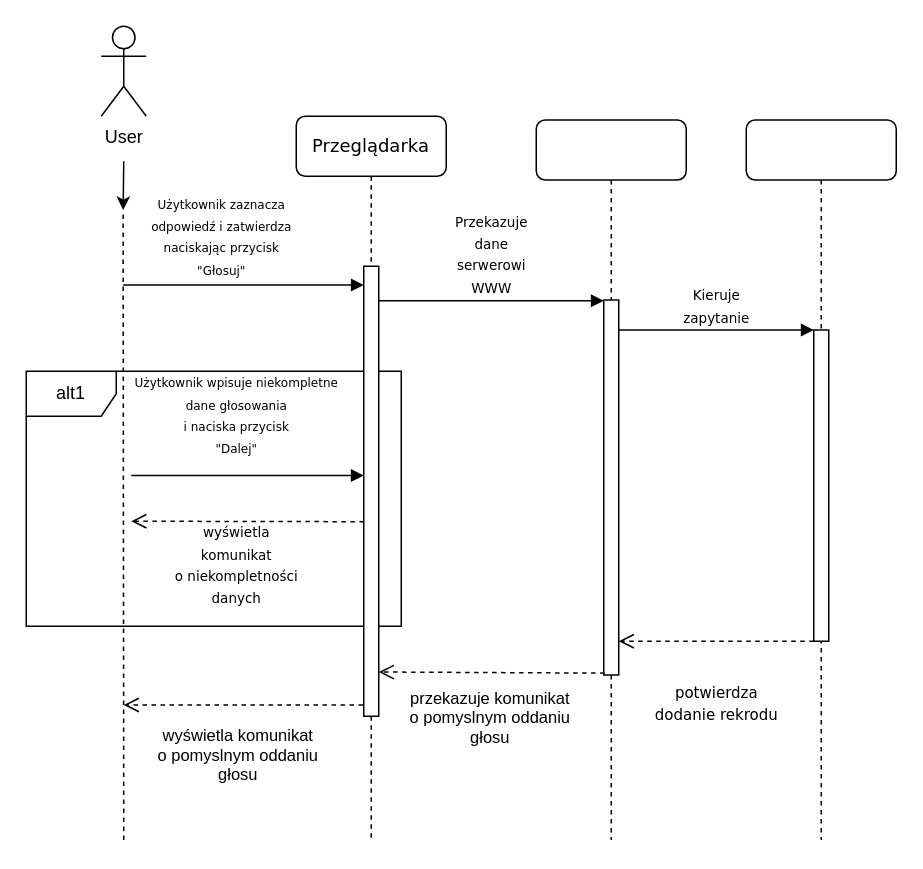
The diagram is 923 pixels wide and 869 high, and some of its shapes have lost their labels. The shapes that lost their labels are listed below. From the top down, each one's box as (x1, y1, x2, y2) in pixels, then its label:
(535, 118, 686, 840): Serwer
(745, 118, 896, 840): Baza danych
